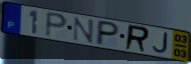1: (28, 10, 39, 36)
J: (151, 32, 169, 55)
N: (72, 16, 96, 45)
P: (44, 10, 70, 39), (94, 20, 121, 47)
R: (124, 23, 152, 54)
